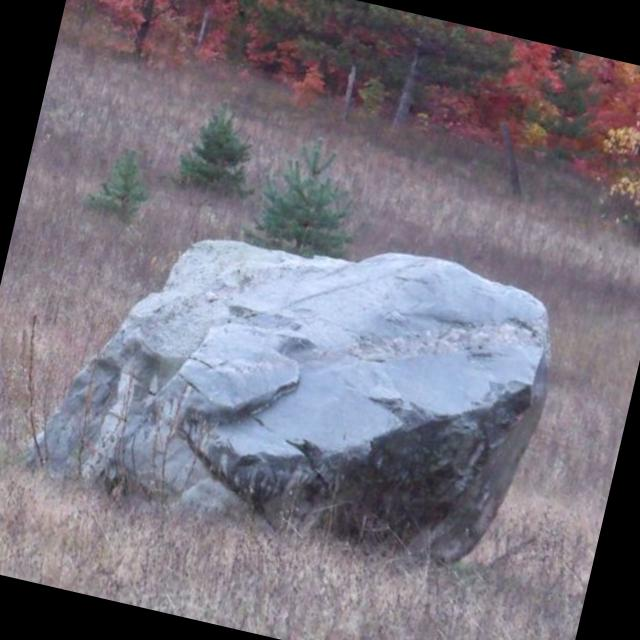stone: (33, 240, 549, 560)
